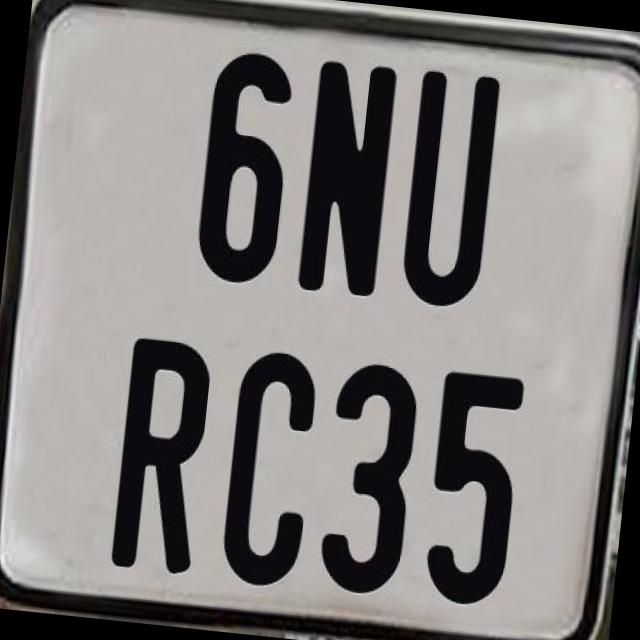3: (314, 356, 422, 602)
5: (416, 370, 526, 618)
6: (190, 45, 298, 292)
C: (216, 348, 322, 598)
N: (294, 54, 398, 292)
R: (110, 334, 217, 574)
U: (398, 69, 506, 311)
